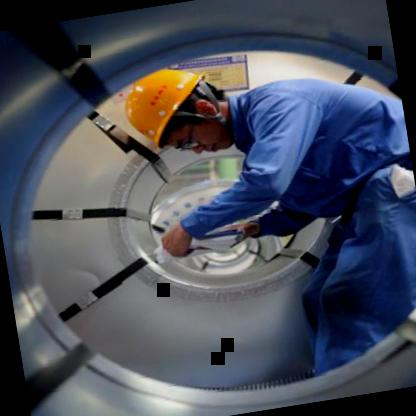helmet: (96, 47, 244, 171)
